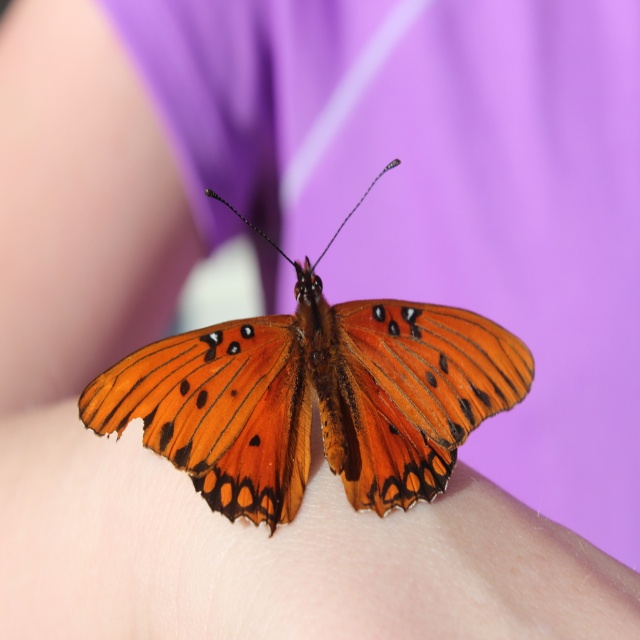Butterfly: (74, 151, 540, 546)
